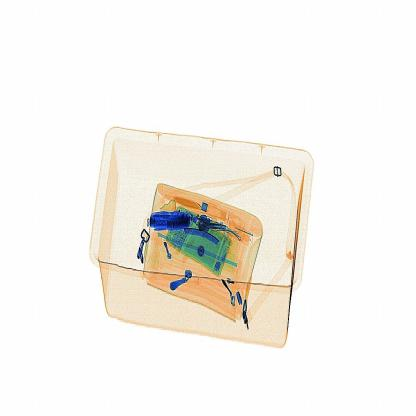scissors: (142, 200, 196, 236)
